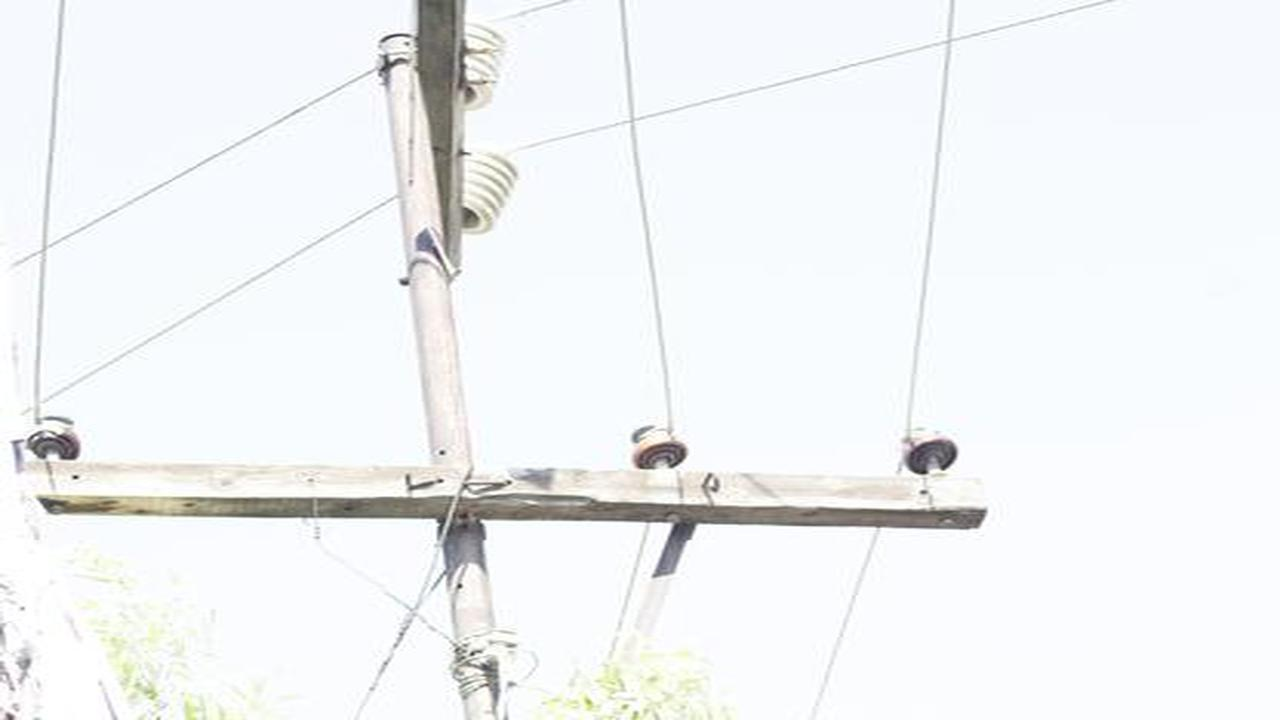defect_pin: (21, 409, 82, 466)
insulator_pin: (627, 416, 691, 474), (895, 420, 959, 477)
